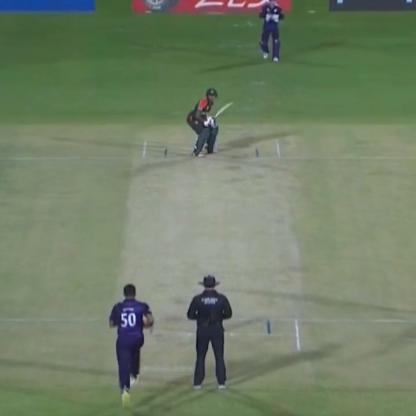bat: (210, 99, 237, 119)
pitch: (115, 140, 311, 358)
